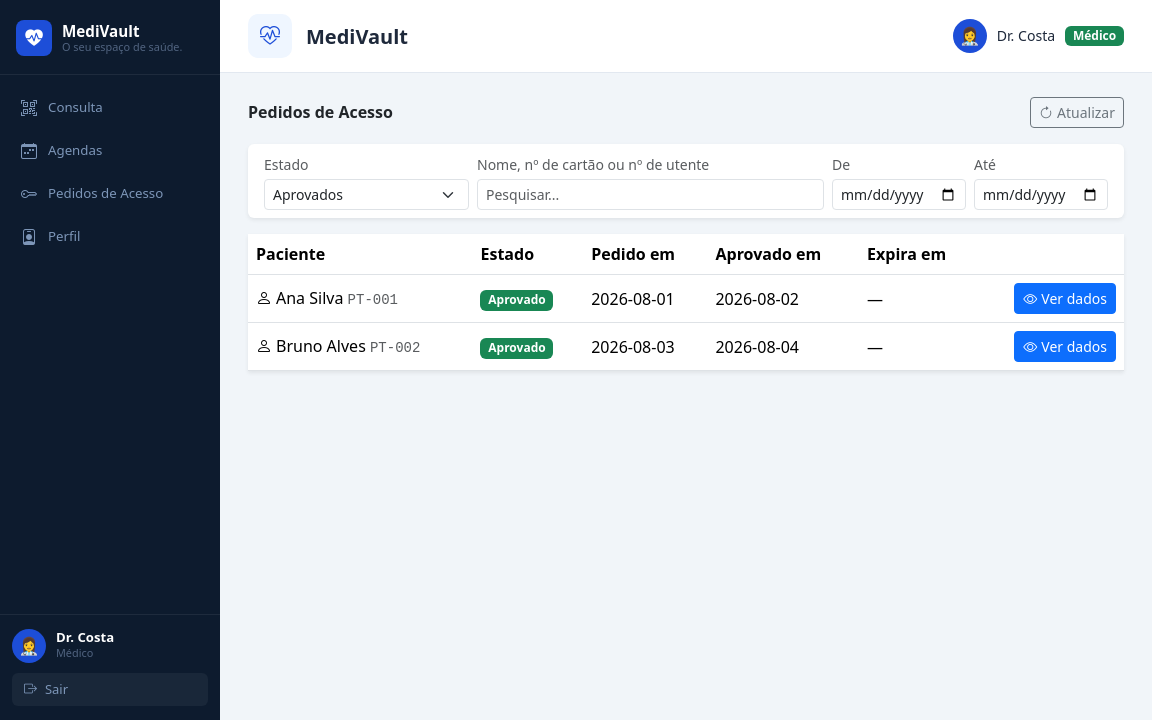
Scenario: DoctorAccessPage › filters requests by the search box
Check: the text "Ana Silva" is shown, box x1=276 y1=287 x2=343 y2=309
Type "Bruno" into the field with placeholder "Pesquisar..." at (650, 194), box x1=477 y1=179 x2=824 y2=210
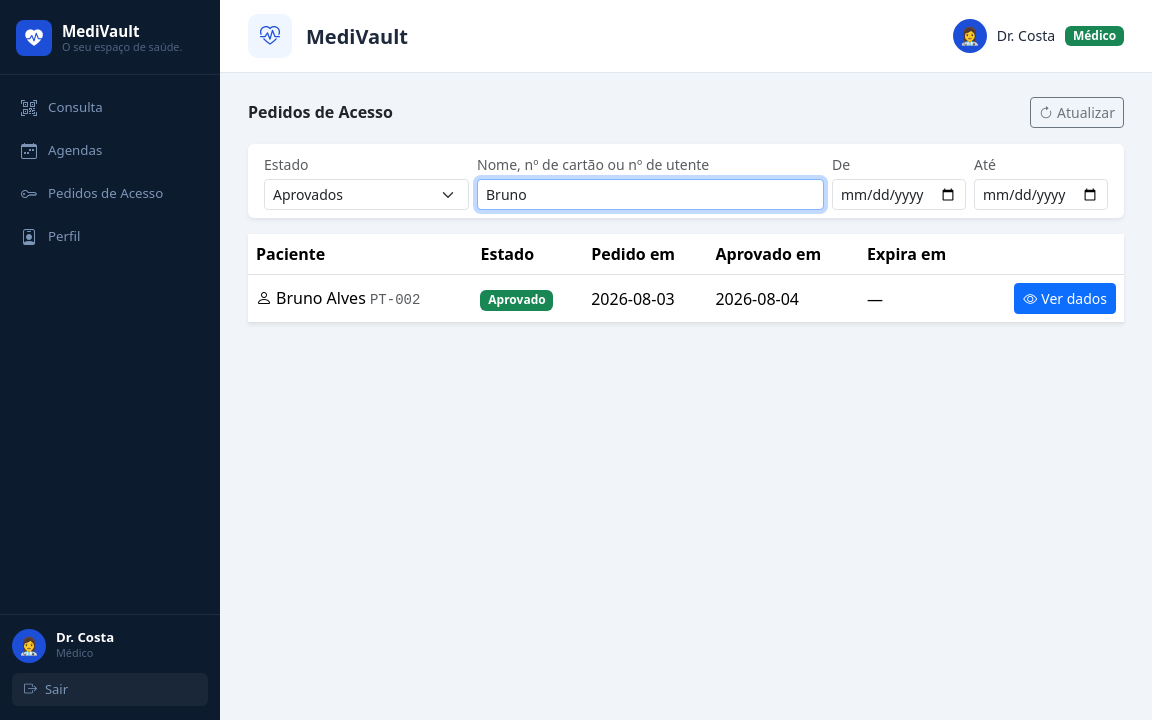
Check: the text "Bruno Alves" is shown, box x1=276 y1=287 x2=366 y2=309
Check: the text "Ana Silva" is gone
